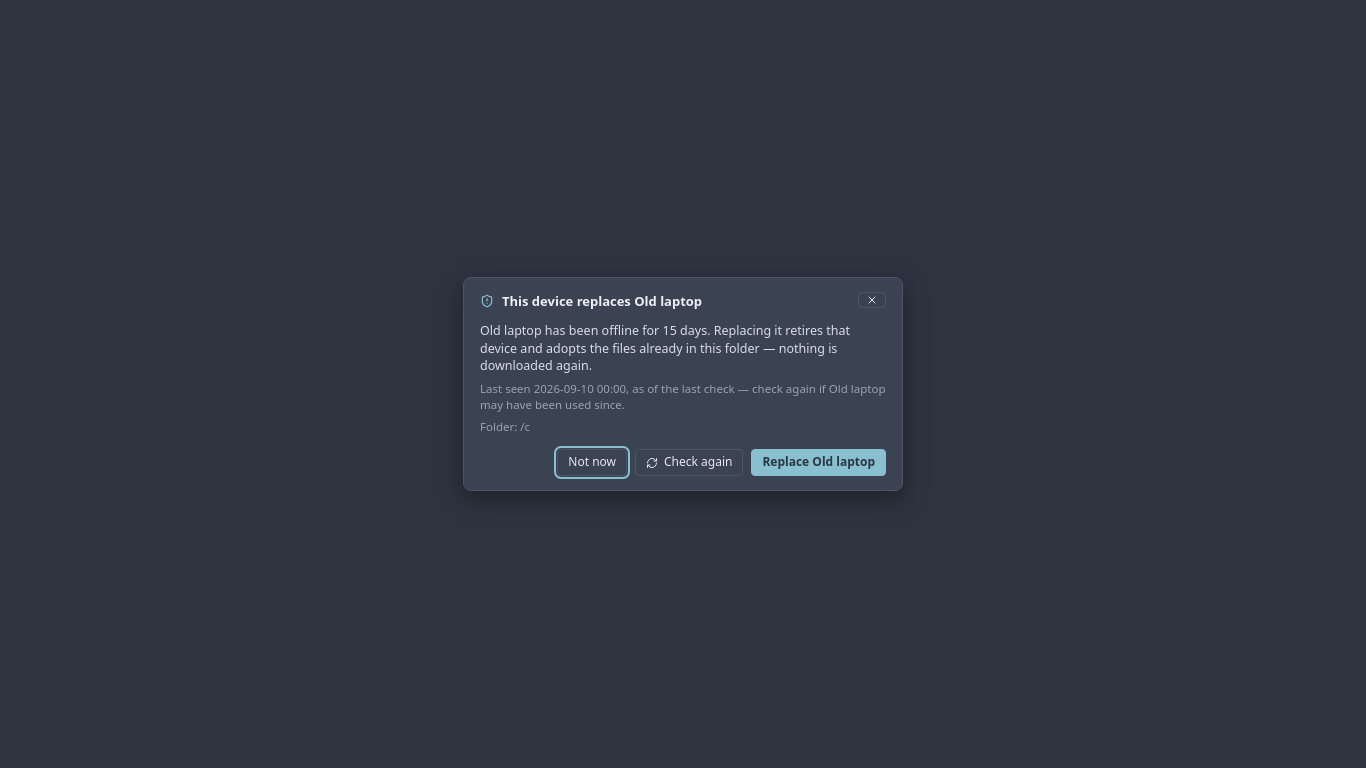
it: DeviceReplaceDialog — replace (another device of this account) › offers the replace for a device offline more than 7 days and confirms it
Expected: the text "This device replaces Old laptop" is shown, [480, 292, 702, 310]
Expected: the text "Old laptop has been offline for 15 days. Replacing it retires that device and adopts the files already in this folder — " is shown, [480, 322, 850, 374]
Click the button "Replace Old laptop" at (819, 462), box [751, 449, 886, 476]
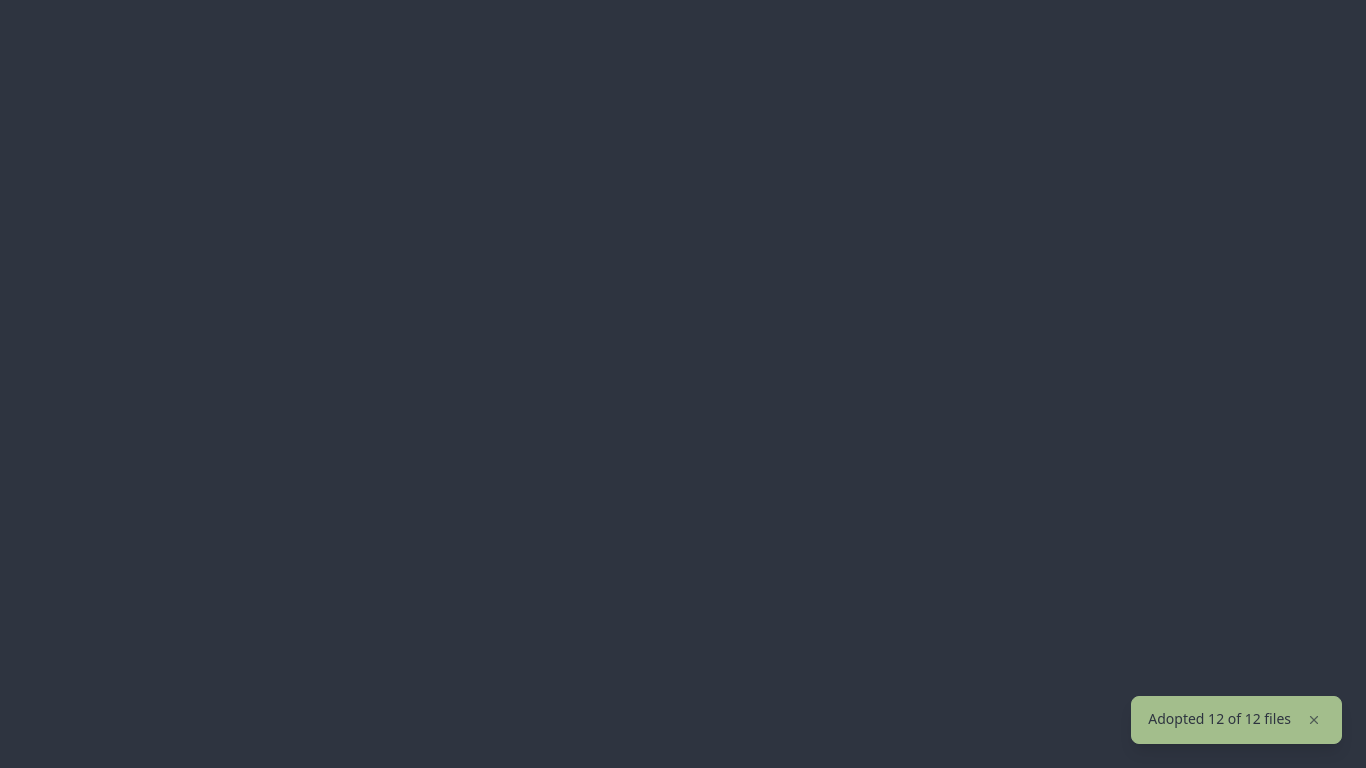
Result: the message reads "Adopted 12 of 12 files" at [1148, 709, 1291, 728]
Result: the text "This device replaces Old laptop" is gone
